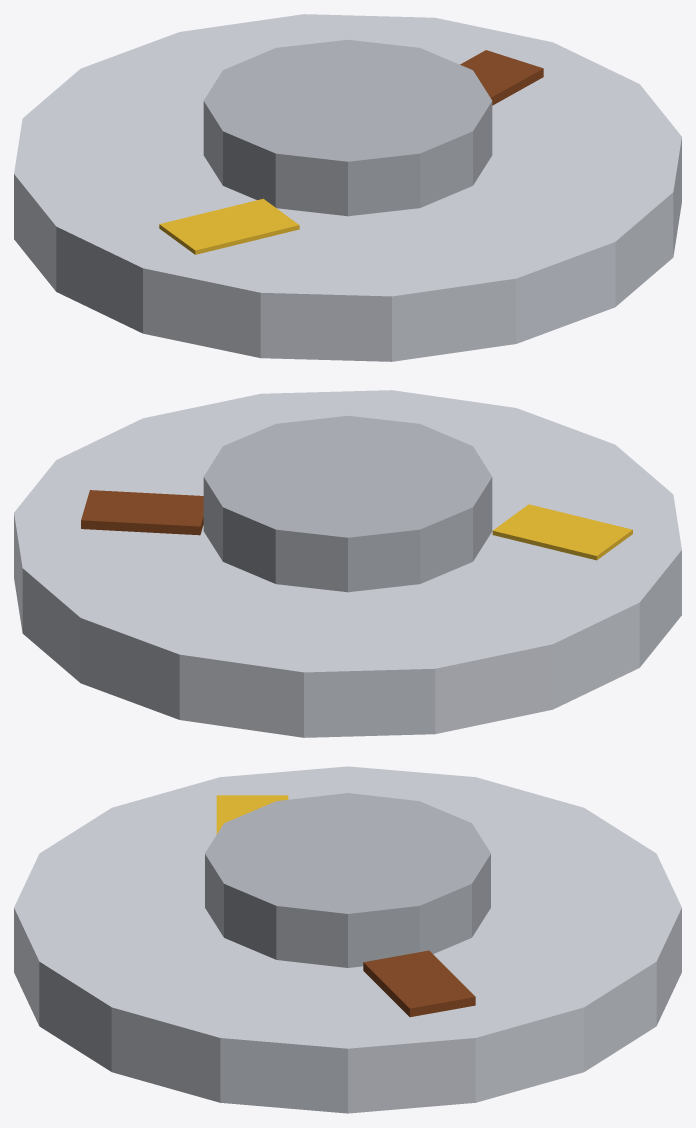
The model's file is garage_rusty_disc.glb.
3 renders of one model, top to bottom at view 1: azimuth 30°, elevation 25°; view 2: azimuth 150°, elevation 25°; view 3: azimuth 270°, elevation 25°, orthographic.
Parts seen in each view (by area): view 1: disc_paint_silver, hub_tool_chrome, label_parts_box, rust_rust; view 2: disc_paint_silver, hub_tool_chrome, rust_rust, label_parts_box; view 3: disc_paint_silver, hub_tool_chrome, rust_rust, label_parts_box.
Part boxes in pixels (x1,y1,x2,y2): disc_paint_silver: (14,14,681,361); hub_tool_chrome: (203,39,492,216); label_parts_box: (159,198,299,254); rust_rust: (460,50,543,105); disc_paint_silver: (14,390,681,737); hub_tool_chrome: (203,415,492,592); rust_rust: (81,490,203,535); label_parts_box: (492,504,632,560); disc_paint_silver: (14,766,681,1113); hub_tool_chrome: (205,793,490,967); rust_rust: (363,950,475,1017); label_parts_box: (216,795,288,834).
Size of the model in its own units: 0.28 by 0.055 by 0.28.
